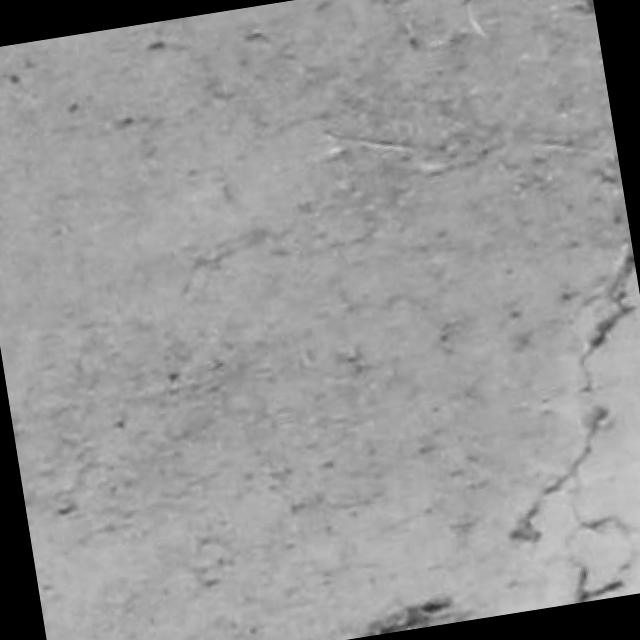crack: (510, 405, 609, 542), (580, 242, 635, 391), (567, 495, 636, 602), (573, 566, 624, 602)
